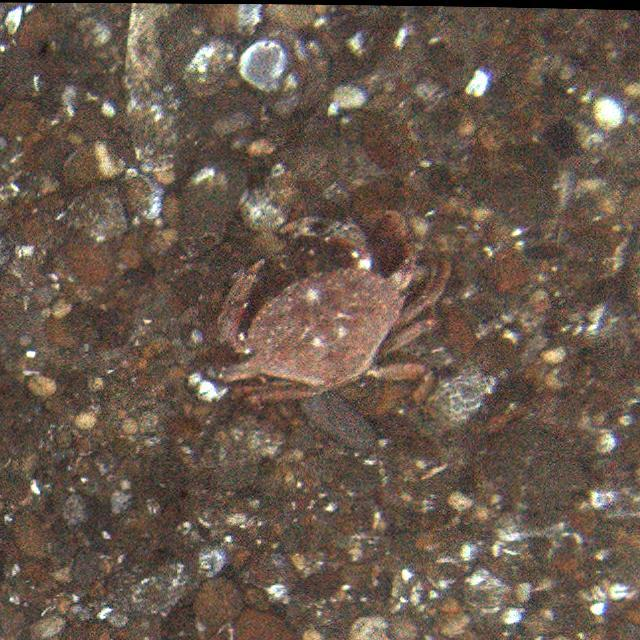crab: (205, 248, 451, 401)
